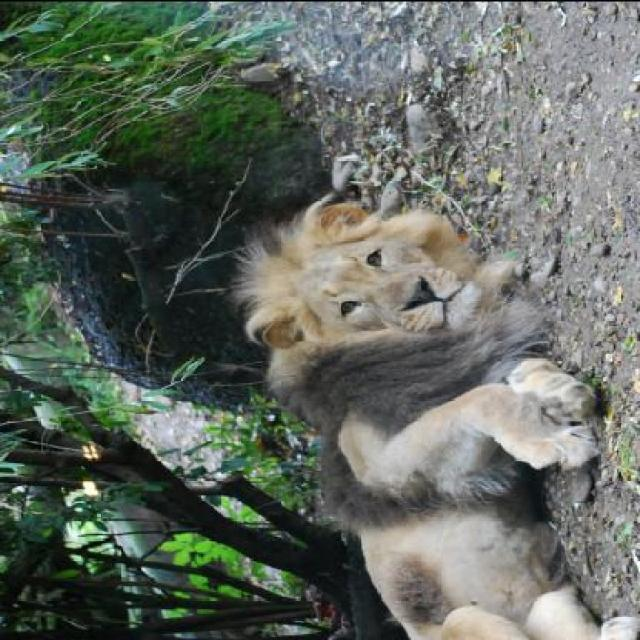Lion: (240, 162, 629, 638)
